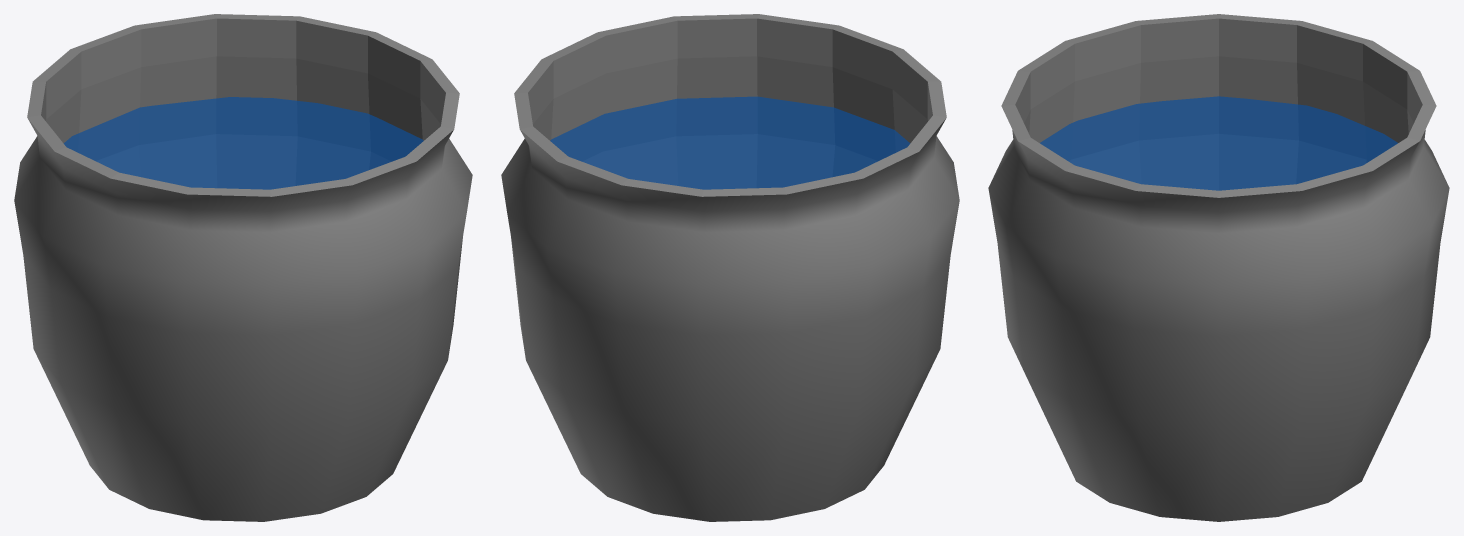
The model's file is BucketofWater.fbx.
3 renders of one model, left to right at view 1: azimuth 30°, elevation 25°; view 2: azimuth 150°, elevation 25°; view 3: azimuth 270°, elevation 25°, orthographic.
Parts seen in each view (by area): view 1: pDisc4; view 2: pDisc4; view 3: pDisc4.
Part boxes in pixels (x1,y1,x2,y2): pDisc4: [14, 14, 472, 521]; pDisc4: [501, 14, 959, 521]; pDisc4: [988, 14, 1449, 521].
Size of the model in its own units: 1.77 by 1.49 by 1.77.
